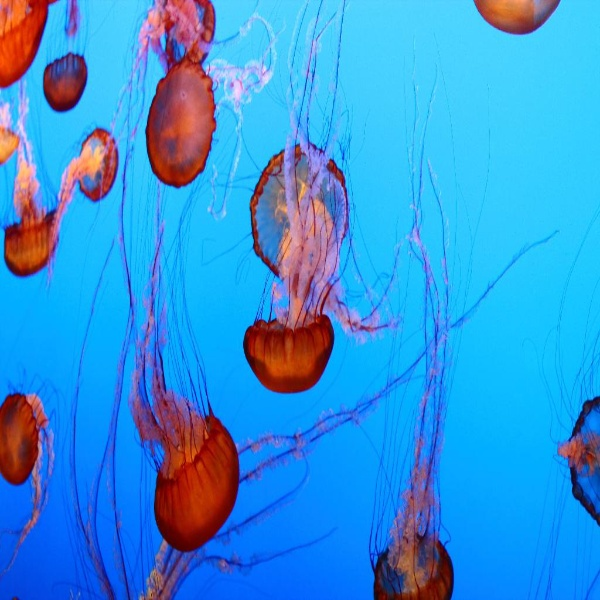Jellyfish: (350, 35, 458, 599), (115, 139, 241, 559), (244, 0, 349, 403), (101, 0, 277, 198), (527, 203, 599, 599), (203, 139, 354, 280), (0, 365, 69, 584), (41, 125, 121, 293), (1, 73, 61, 278), (140, 56, 217, 189), (39, 0, 94, 118), (0, 0, 60, 89), (474, 0, 559, 36), (0, 98, 19, 167)
